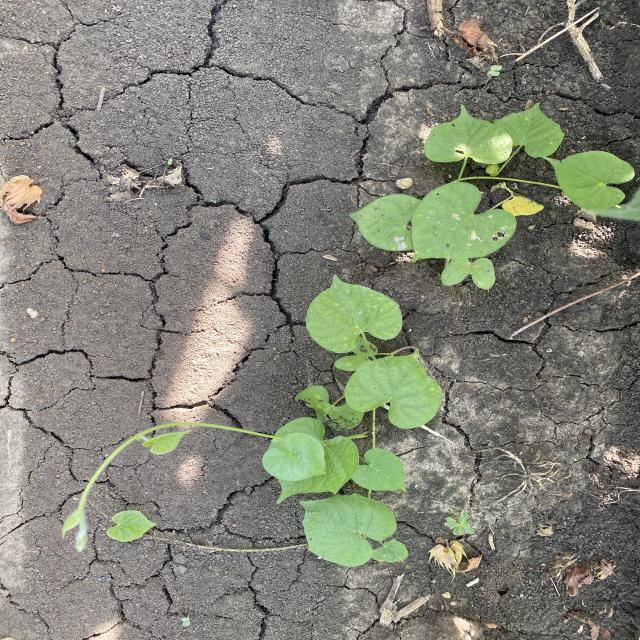MorningGlory: (57, 274, 448, 570), (345, 101, 637, 292)
Purslane: (442, 511, 477, 538)
